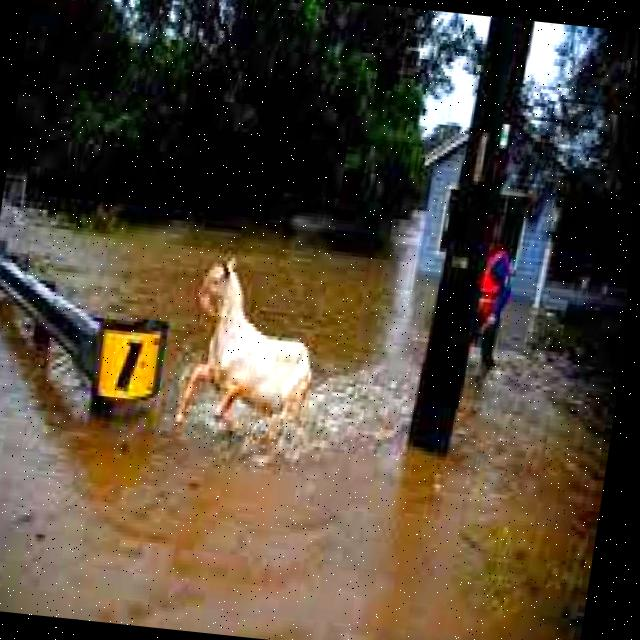civilian: (462, 232, 521, 376)
horse: (155, 247, 338, 460)
